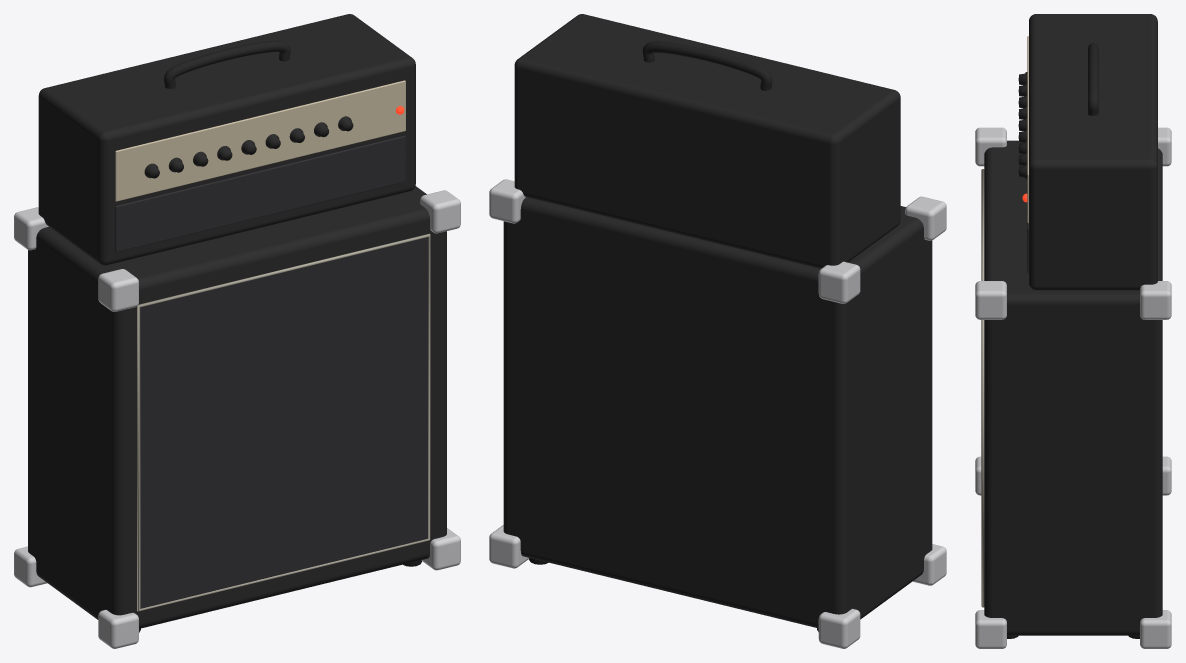
File: amp_stack.glb
The picture shows the model from 3 angles, left to right: view 1: azimuth 30°, elevation 25°; view 2: azimuth 150°, elevation 25°; view 3: azimuth 270°, elevation 25°; orthographic projection. The views are drawn at different scales.
Visible parts, largest first — view 1: cabinet, amp_head; view 2: cabinet, amp_head; view 3: cabinet, amp_head.
Boxes of the visible parts, box(x1,y1,x2,y2) form: cabinet: box(14, 186, 460, 648); amp_head: box(38, 14, 415, 265); cabinet: box(489, 179, 946, 648); amp_head: box(514, 14, 900, 268); cabinet: box(975, 127, 1171, 648); amp_head: box(1018, 14, 1157, 290).
Size of the model in its own units: 0.796 by 1.12 by 0.396.
9 materials, 1 textured.
